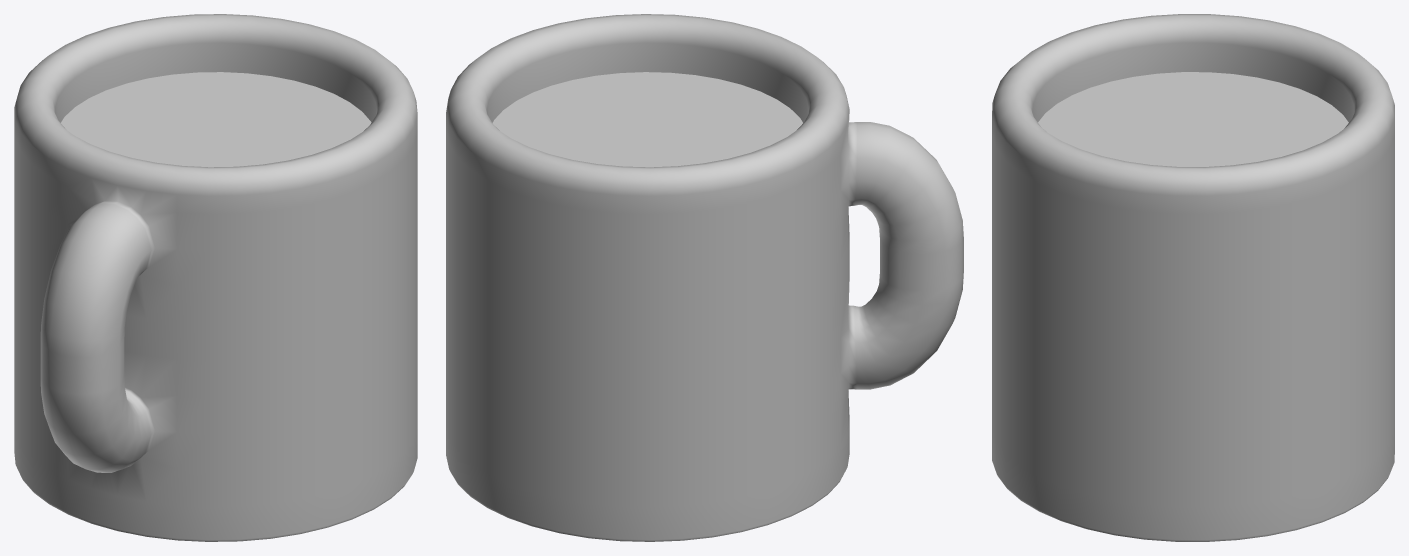
Rendered from geo_mug.fbx.
3 views of the same model, side by side, from view 1: azimuth 30°, elevation 25°; view 2: azimuth 150°, elevation 25°; view 3: azimuth 270°, elevation 25° (orthographic).
Parts seen in each view (by area): view 1: geo_mug; view 2: geo_mug; view 3: geo_mug.
Boxes of the visible parts, x1,y1,x2,y2 form: geo_mug: (14, 14, 417, 541); geo_mug: (446, 14, 963, 541); geo_mug: (992, 14, 1394, 541).
Size of the model in its own units: 0.1735 by 0.1465 by 0.1461.
Materials: 1 (1 with a texture image).
